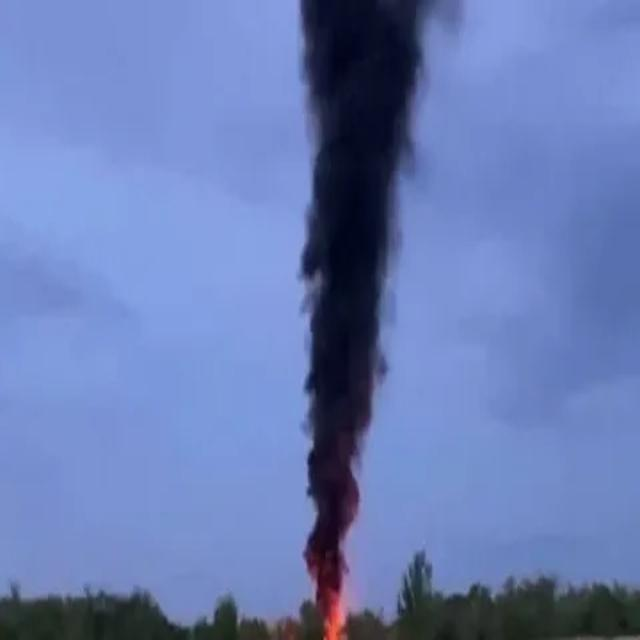smoke: (290, 0, 423, 640)
